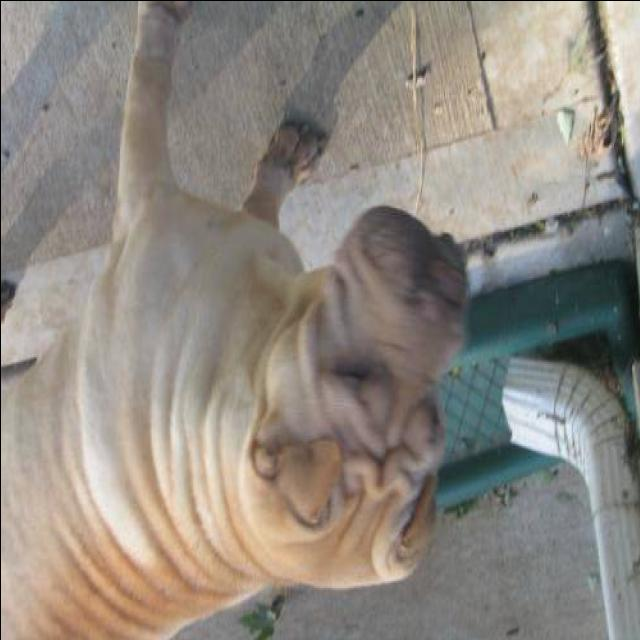dog: (0, 0, 483, 640)
